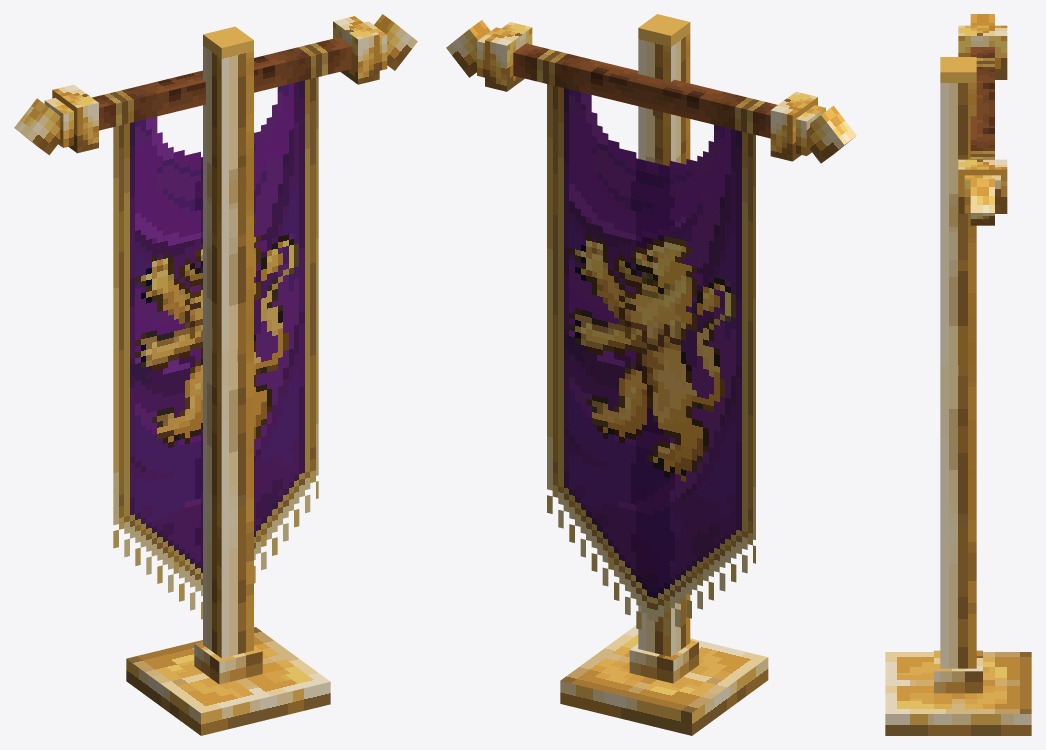
File: banner suelo.gltf
3 views of the same model, side by side, from view 1: azimuth 30°, elevation 25°; view 2: azimuth 150°, elevation 25°; view 3: azimuth 270°, elevation 25° (orthographic). The views are drawn at different scales.
Visible parts, largest first — view 1: cube (×10); view 2: cube (×10); view 3: cube (×9).
Boxes of the visible parts, x1,y1,x2,y2 form: cube (×10): (14, 14, 417, 735); cube (×10): (446, 14, 856, 735); cube (×9): (885, 14, 1031, 735).
Size of the model in its own units: 1.13 by 1.81 by 0.375.
1 material, 1 textured.
